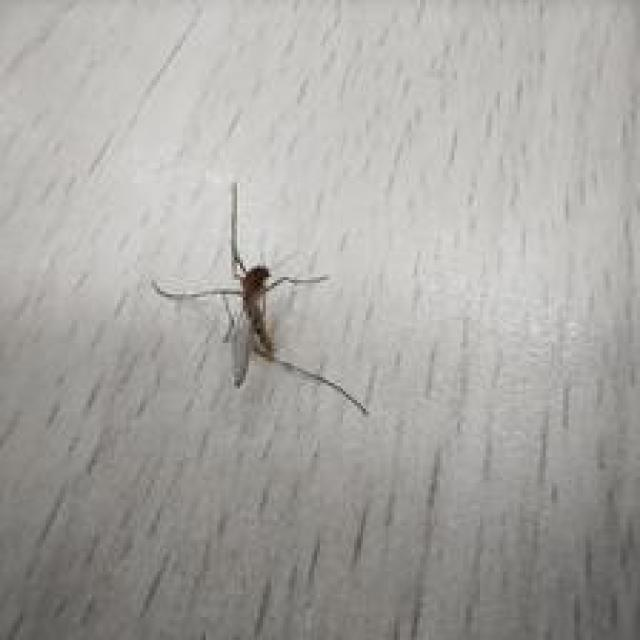Culex: (150, 181, 370, 416)
